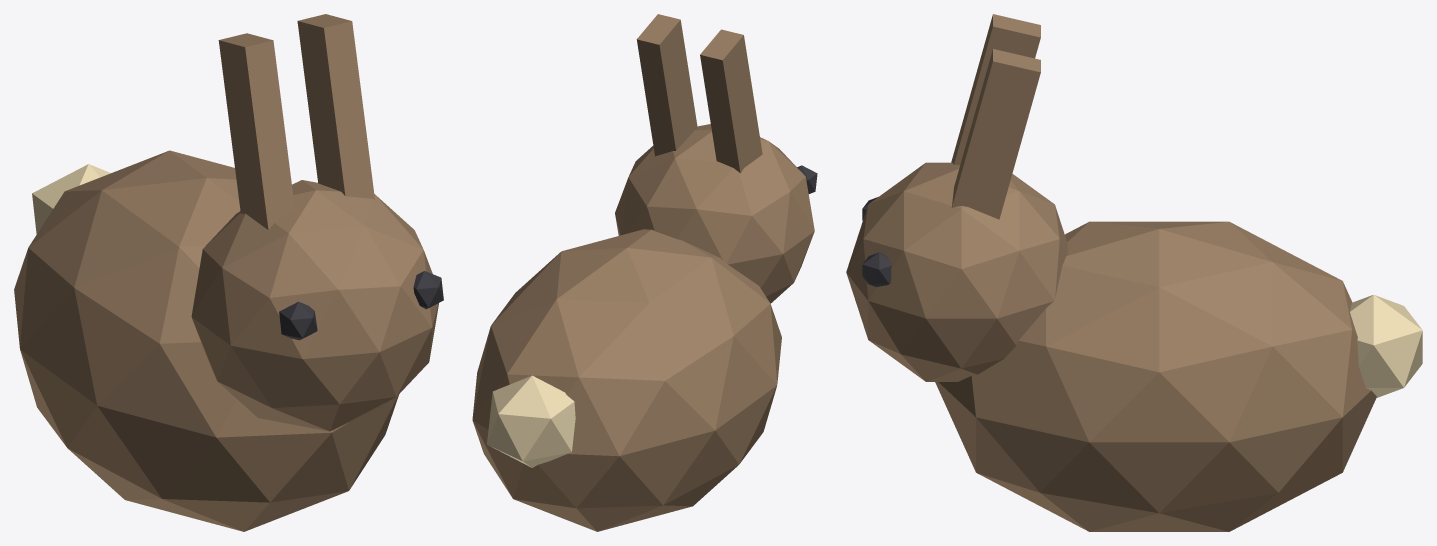
The model's file is rabbit.glb.
3 renders of one model, left to right at view 1: azimuth 30°, elevation 25°; view 2: azimuth 150°, elevation 25°; view 3: azimuth 270°, elevation 25°, orthographic. The views are drawn at different scales.
Visible parts, largest first — view 1: body, head, fur_#9C8064, iron, tail; view 2: body, head, fur_#9C8064, tail; view 3: body, head, fur_#9C8064, tail, iron.
Boxes of the visible parts, <box> form: body: <box>14,150,398,531</box>; head: <box>191,180,438,431</box>; fur_#9C8064: <box>218,14,374,229</box>; iron: <box>279,271,443,340</box>; tail: <box>32,164,110,233</box>; body: <box>472,229,781,531</box>; head: <box>615,124,814,303</box>; fur_#9C8064: <box>636,14,762,173</box>; tail: <box>487,375,575,467</box>; body: <box>935,221,1376,531</box>; head: <box>846,162,1067,381</box>; fur_#9C8064: <box>951,14,1040,219</box>; tail: <box>1350,294,1422,397</box>; iron: <box>862,197,891,286</box>.
Bounding box in the file's own units: 0.1883 × 0.326 × 0.3498.
